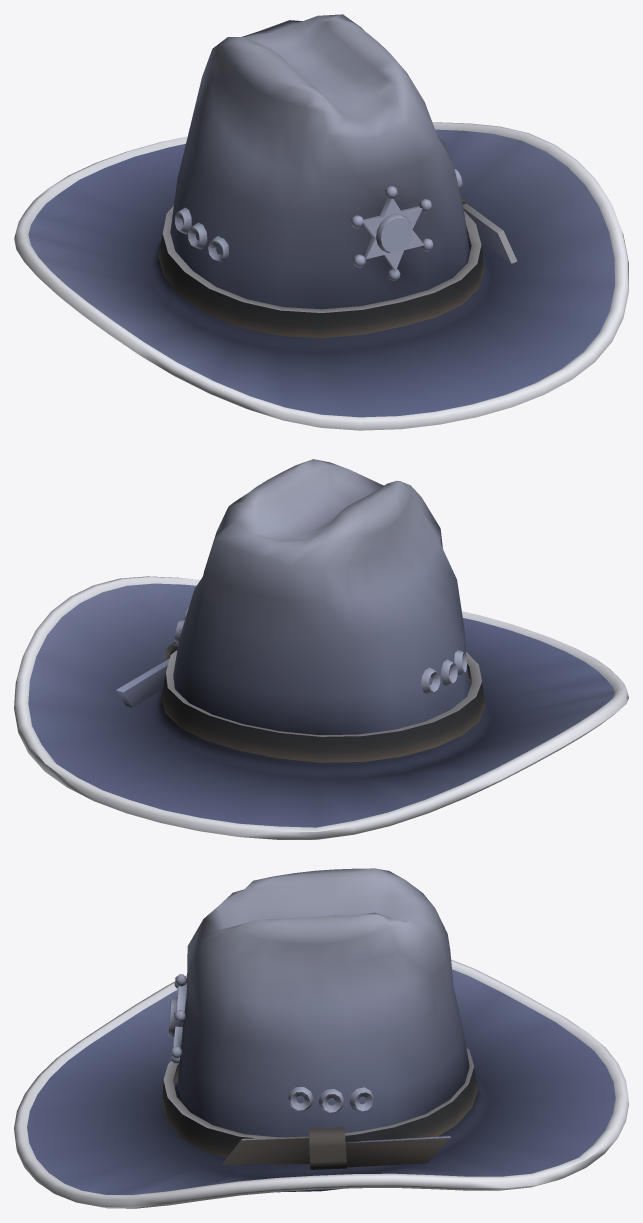
The model's file is Cap_Sheriff_Hat.gltf.
The picture shows the model from 3 angles, top to bottom: view 1: azimuth 30°, elevation 25°; view 2: azimuth 150°, elevation 25°; view 3: azimuth 270°, elevation 25°; orthographic projection. The views are drawn at different scales.
Visible parts, largest first — view 1: Cap_Sheriff_Hat; view 2: Cap_Sheriff_Hat; view 3: Cap_Sheriff_Hat.
Boxes of the visible parts, bbox=[...] form: Cap_Sheriff_Hat: bbox=[14, 14, 628, 430]; Cap_Sheriff_Hat: bbox=[14, 459, 628, 839]; Cap_Sheriff_Hat: bbox=[14, 868, 628, 1208].
Bounding box in the file's own units: 1.47 × 0.6815 × 1.55.
Materials: 3 (3 with a texture image).
